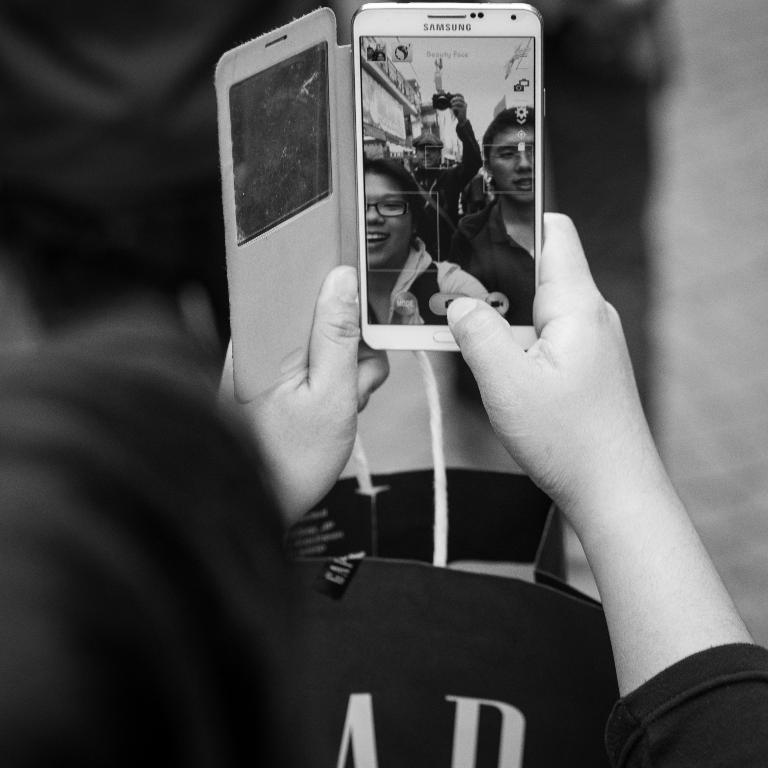Mobile-phone: (346, 3, 545, 353)
